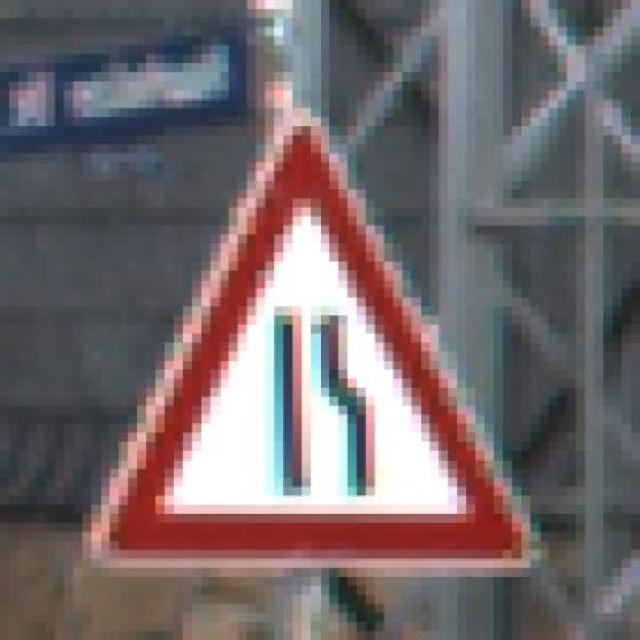-Road narrows on right: (82, 108, 548, 586)
